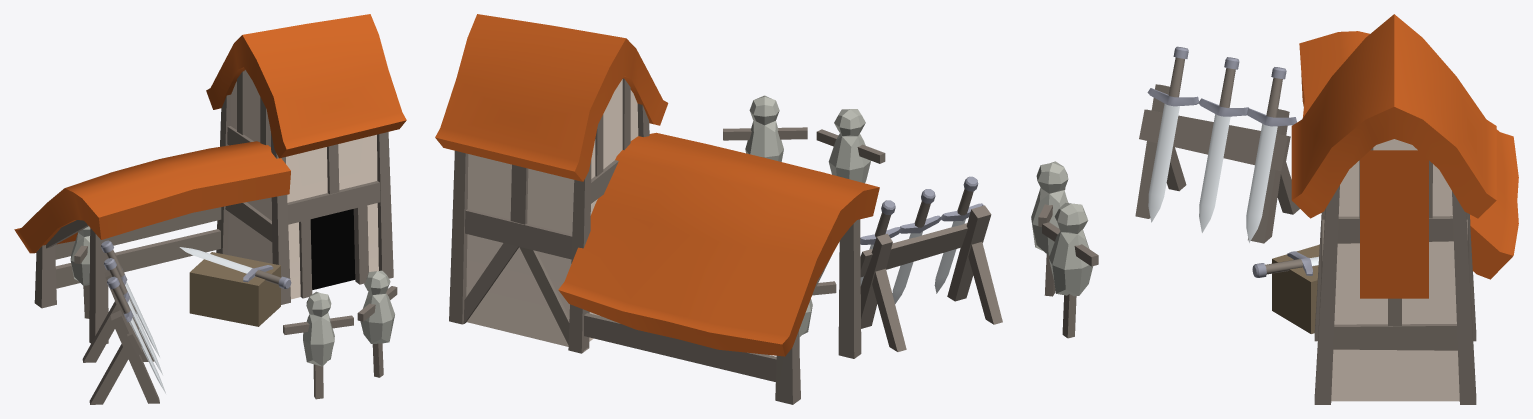
Rendered from recruiter.glb.
The picture shows the model from 3 angles, left to right: view 1: azimuth 30°, elevation 25°; view 2: azimuth 150°, elevation 25°; view 3: azimuth 270°, elevation 25°; orthographic projection. The views are drawn at different scales.
Visible parts, largest first — view 1: MESH_Barracks; view 2: MESH_Barracks; view 3: MESH_Barracks.
Part boxes in pixels (x1=…): MESH_Barracks: x1=14, y1=14, x2=406, y2=404; MESH_Barracks: x1=435, y1=14, x2=1002, y2=404; MESH_Barracks: x1=1031, y1=14, x2=1518, y2=404.
Size of the model in its own units: 2.6 by 1.69 by 2.36.
